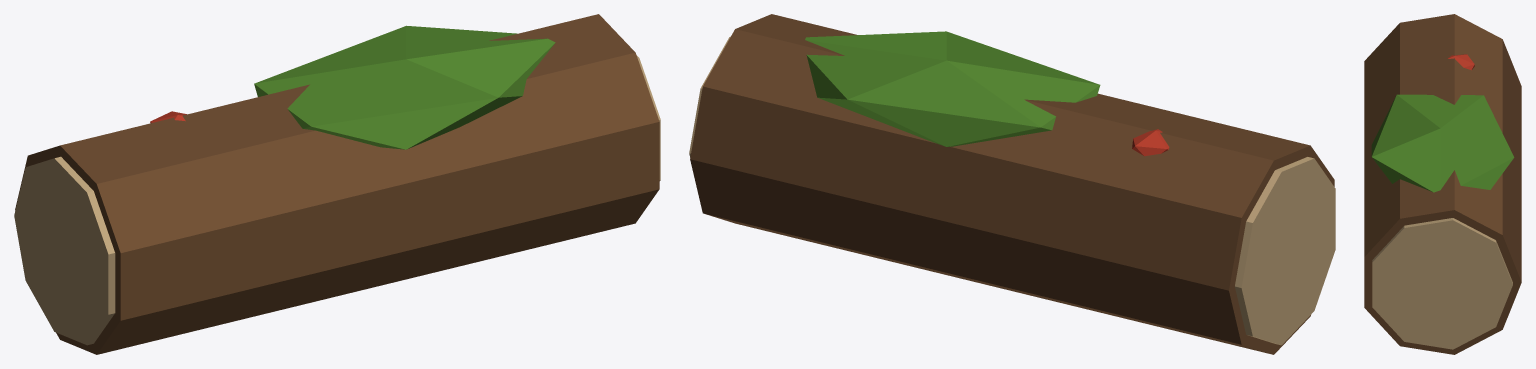
The model's file is Log.glb.
3 renders of one model, left to right at view 1: azimuth 30°, elevation 25°; view 2: azimuth 150°, elevation 25°; view 3: azimuth 270°, elevation 25°, orthographic. The views are drawn at different scales.
Parts seen in each view (by area): view 1: Log; view 2: Log; view 3: Log.
Boxes of the visible parts, box(x1,y1,x2,y2) form: Log: box(14, 14, 660, 354); Log: box(689, 14, 1335, 354); Log: box(1364, 14, 1521, 354).
Size of the model in its own units: 1.64 by 0.5824 by 0.5431.
